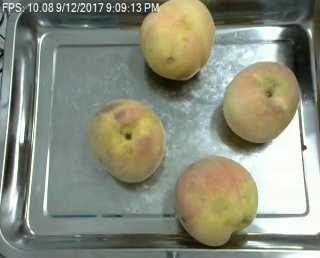Peach: (174, 156, 258, 246), (217, 60, 299, 144), (88, 98, 165, 184), (139, 0, 216, 81)
